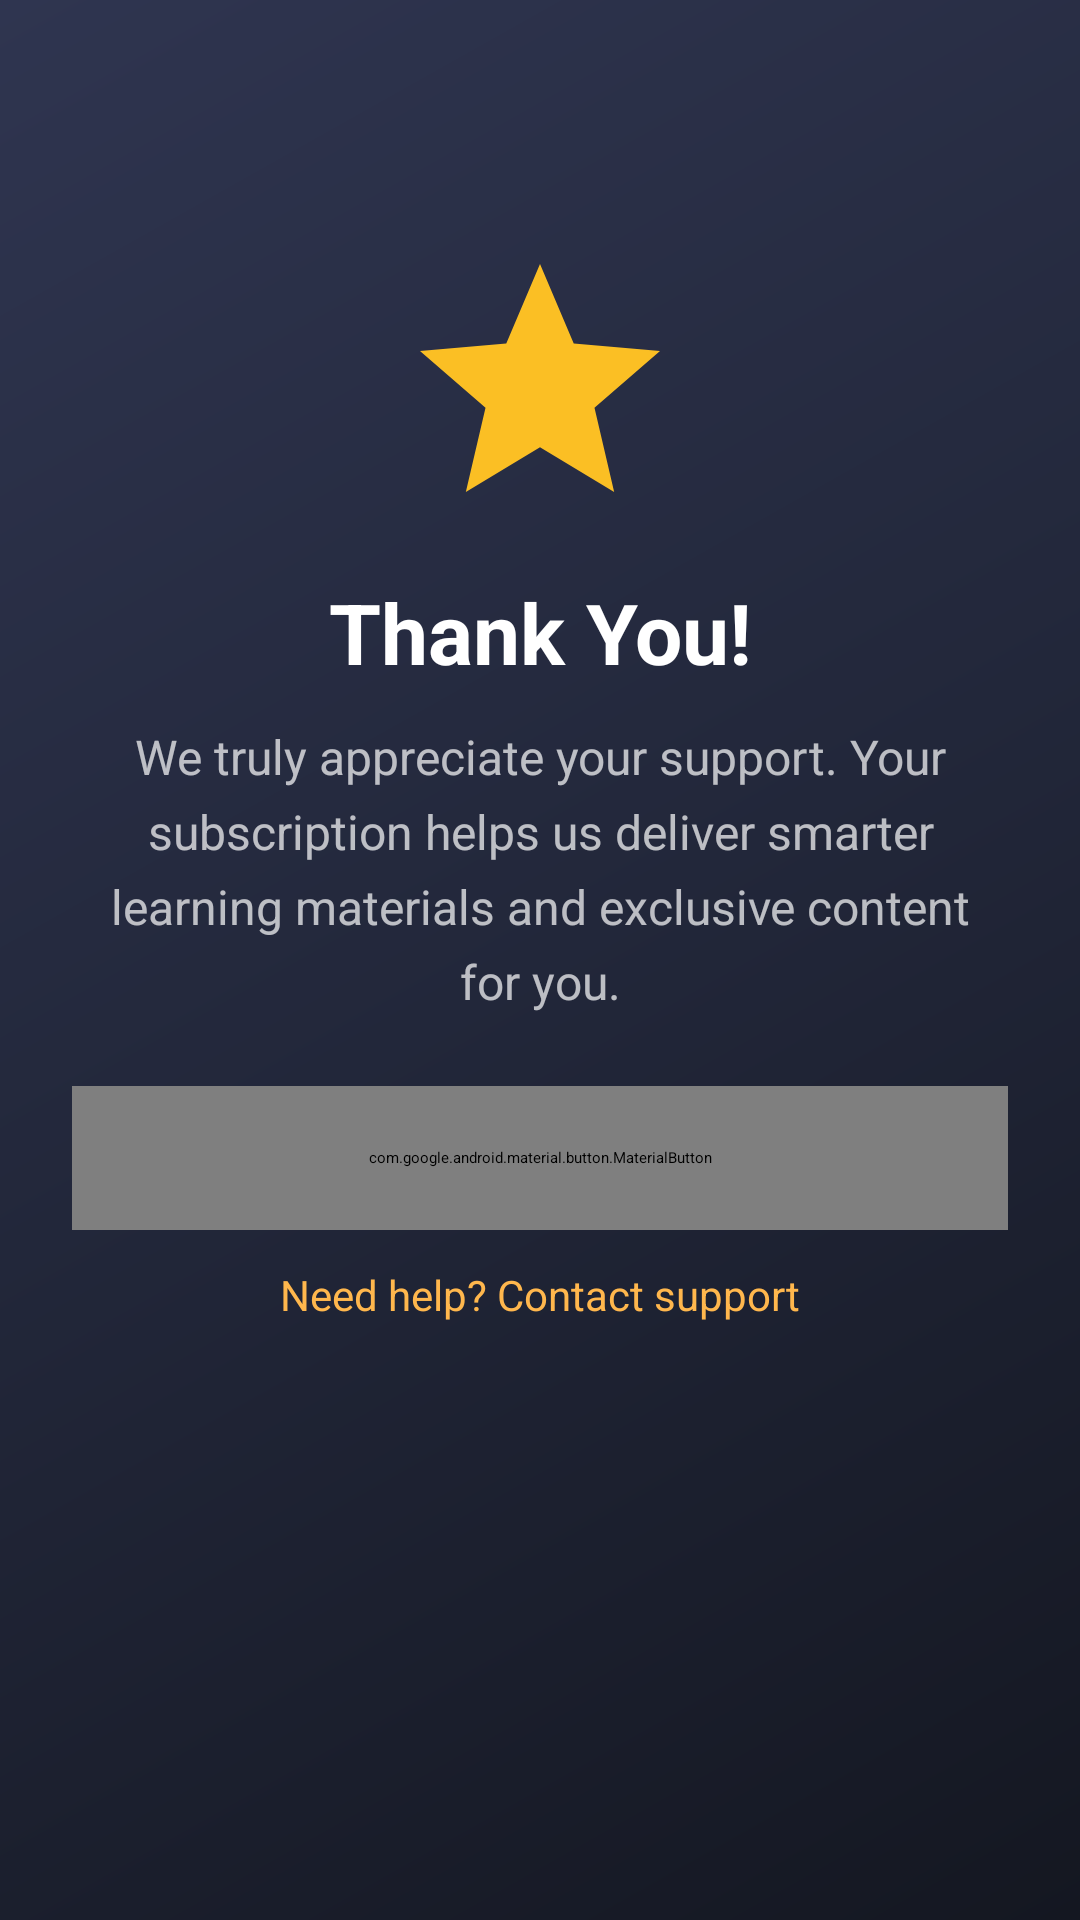

Icon bounding boxes for this 1080*1920 phone screenshot, format (x1, y1, x2, y2):
Success: (420, 264, 660, 492)
